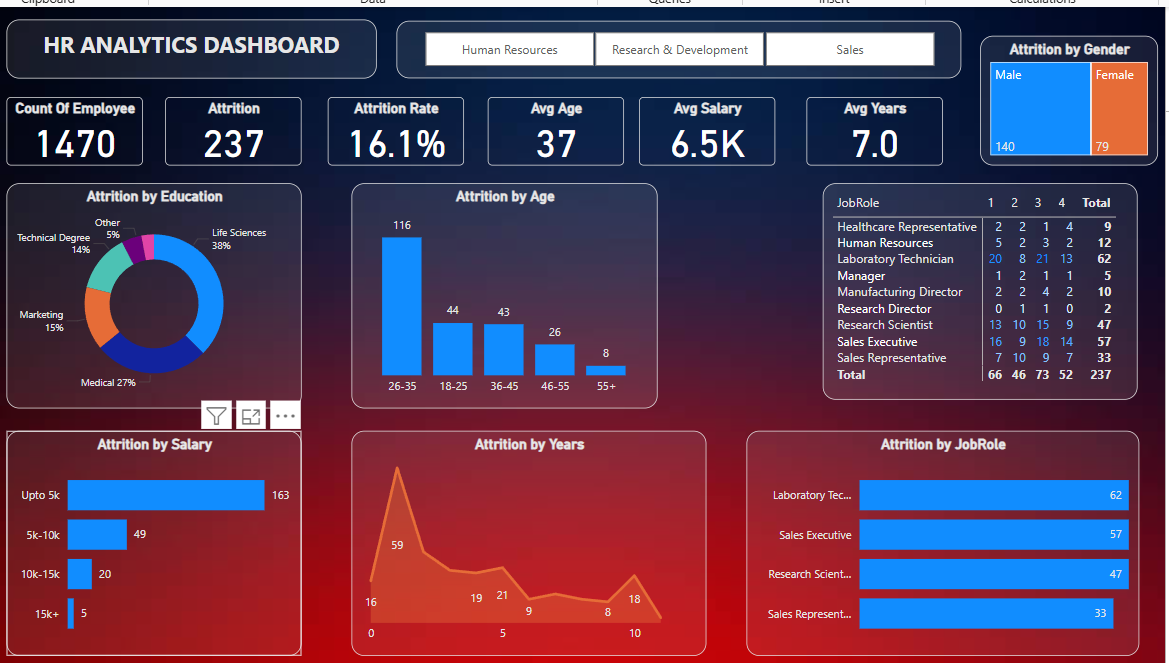

The dashboard page shown, as its layout file describes it:
{"tool":"powerbi","page":{"name":"Page 1","canvas":[1280,720],"ordinal":0},"visuals":[{"type":"card","title":"Count Of Employee ","fields":{"Values":["CountNonNull(HR_Analytics.EmpID)"]},"box":[8.2,98.8,149.6,75.5],"z":0},{"type":"card","title":"Attrition ","fields":{"Values":["Sum(HR_Analytics.Attrition count)"]},"box":[182.5,98.8,149.6,75.5],"z":1000},{"type":"card","title":"Attrition Rate ","fields":{"Values":["HR_Analytics.AttritionRate"]},"box":[360.9,98.8,149.6,75.5],"z":2000},{"type":"card","title":"Avg Age","fields":{"Values":["Avg(HR_Analytics.Age)"]},"box":[536.5,98.8,149.6,75.5],"z":3000},{"type":"card","title":"Avg Years","fields":{"Values":["Avg(HR_Analytics.YearsAtCompany)"]},"box":[886.5,98.8,149.6,75.5],"z":4000},{"type":"card","title":"Avg Salary","fields":{"Values":["Avg(HR_Analytics.MonthlyIncome)"]},"box":[702.6,98.8,149.6,75.5],"z":5000},{"type":"donutChart","title":"Attrition by Education","fields":{"Category":["HR_Analytics.EducationField"],"Y":["Sum(HR_Analytics.Attrition count)"]},"box":[8.2,193.5,323.8,247],"z":6000},{"type":"columnChart","title":"Attrition by Age","fields":{"Category":["HR_Analytics.AgeGroup"],"Y":["Sum(HR_Analytics.Attrition count)"]},"box":[387,193.5,336.2,247],"z":7000},{"type":"pivotTable","title":"Job Satisfaction","fields":{"Rows":["HR_Analytics.JobRole"],"Columns":["HR_Analytics.JobSatisfaction"],"Values":["Sum(HR_Analytics.Attrition count)"]},"box":[904.3,193.5,345.8,237.4],"z":8000},{"type":"barChart","title":"Attrition by Salary","fields":{"Category":["HR_Analytics.SalarySlab"],"Y":["Sum(HR_Analytics.Attrition count)"]},"box":[8.2,465.2,323.8,247],"z":9000},{"type":"barChart","title":"Attrition by JobRole","fields":{"Y":["Sum(HR_Analytics.Attrition count)"],"Category":["HR_Analytics.JobRole"]},"box":[820.6,465.2,430.9,247],"z":10000},{"type":"stackedAreaChart","title":"Attrition by Years","fields":{"Category":["HR_Analytics.YearsAtCompany"],"Y":["Sum(HR_Analytics.Attrition count)"]},"box":[387,465.2,389.7,247],"z":11000},{"type":"treemap","title":"Attrition by Gender","fields":{"Group":["HR_Analytics.Gender"],"Values":["Sum(HR_Analytics.Attrition count)"]},"box":[1077.2,31.6,194.9,142.7],"z":12000},{"type":"slicer","fields":{"Values":["HR_Analytics.Department"]},"box":[436.4,15.1,620.2,63.1],"z":13000},{"type":"textbox","box":[8.2,13.7,406.2,64.5],"z":14000}]}

Visuals, with their boxes in screenshot pixels (x1, y1, x2, y2):
"Count Of Employee " card: x1=2, y1=83, x2=141, y2=154
"Attrition " card: x1=164, y1=83, x2=304, y2=154
"Attrition Rate " card: x1=331, y1=83, x2=471, y2=154
"Avg Age" card: x1=495, y1=83, x2=635, y2=154
"Avg Years" card: x1=822, y1=83, x2=961, y2=154
"Avg Salary" card: x1=650, y1=83, x2=790, y2=154
"Attrition by Education" donutChart: x1=2, y1=172, x2=304, y2=402
"Attrition by Age" columnChart: x1=355, y1=172, x2=669, y2=402
"Job Satisfaction" pivotTable: x1=838, y1=172, x2=1161, y2=393
"Attrition by Salary" barChart: x1=2, y1=425, x2=304, y2=656
"Attrition by JobRole" barChart: x1=760, y1=425, x2=1163, y2=656
"Attrition by Years" stackedAreaChart: x1=355, y1=425, x2=719, y2=656
"Attrition by Gender" treemap: x1=1000, y1=20, x2=1168, y2=154
slicer - HR_Analytics.Department: x1=401, y1=5, x2=981, y2=64
textbox: x1=2, y1=4, x2=381, y2=64
